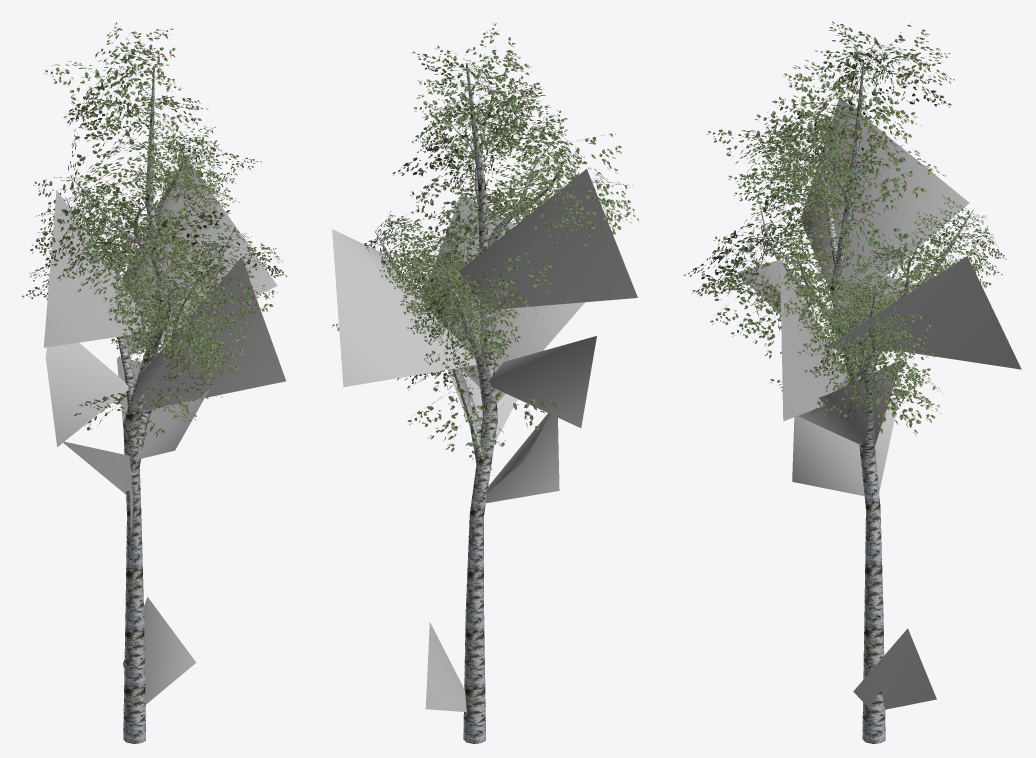
The model's file is birch_13m.dae.
3 views of the same model, side by side, from view 1: azimuth 30°, elevation 25°; view 2: azimuth 150°, elevation 25°; view 3: azimuth 270°, elevation 25° (orthographic). The views are drawn at different scales.
Parts seen in each view (by area): view 1: birch13m; view 2: birch13m; view 3: birch13m.
Part boxes in pixels (x1,y1,x2,y2): birch13m: (22,22,287,743); birch13m: (331,23,638,743); birch13m: (683,21,1021,743).
Size of what is drawn, in the model's own units: 533 by 568 by 1308.
